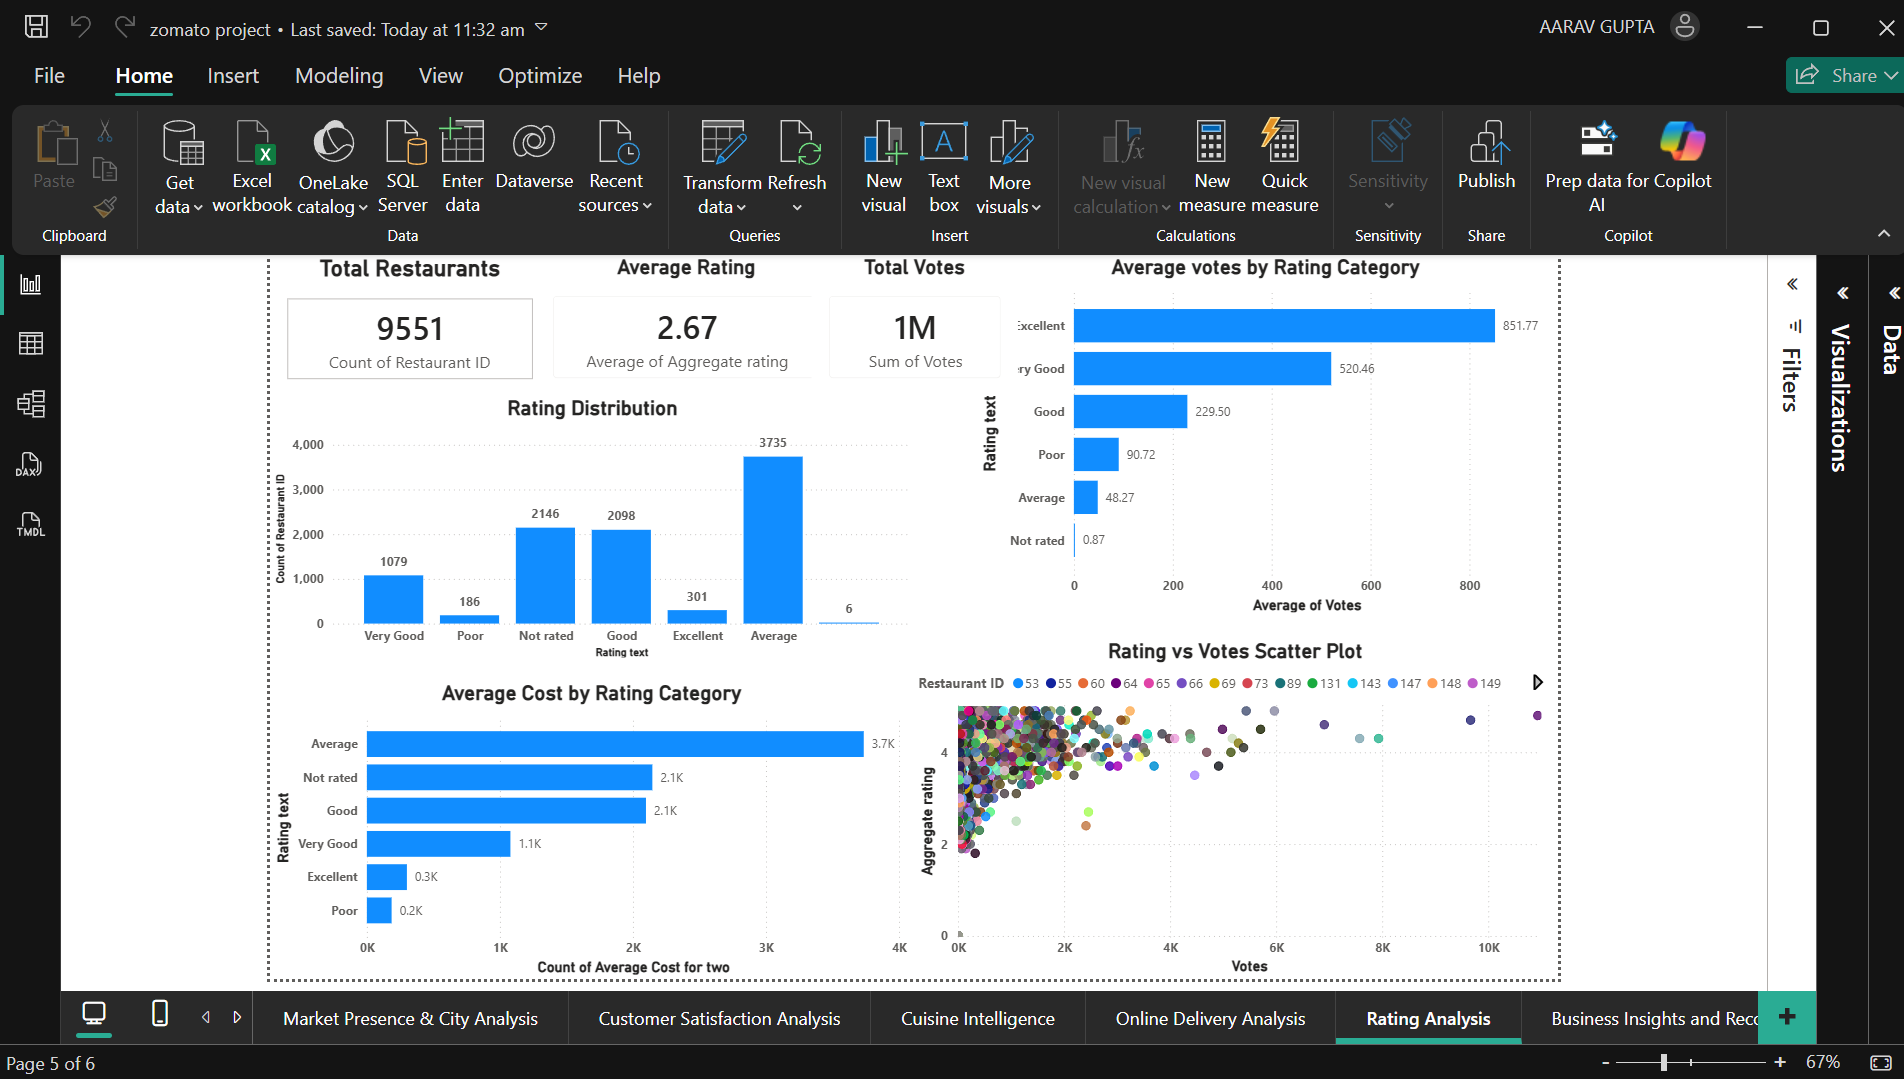

Layout of this report page (visuals, bound fields, positions):
{"tool":"powerbi","page":{"name":"Rating Analysis","canvas":[1280,720],"ordinal":4},"visuals":[{"type":"columnChart","title":"Rating Distribution","fields":{"Category":["zomato.Rating text"],"Y":["CountNonNull(zomato.Restaurant ID)"]},"box":[0,140,641.7,265],"z":0},{"type":"clusteredBarChart","title":"Average votes by Rating Category","fields":{"Category":["zomato.Rating text"],"Y":["Avg(zomato.Votes)"]},"box":[701.7,0,578.3,360],"z":1},{"type":"clusteredBarChart","title":"Average Cost by Rating Category","fields":{"Category":["zomato.Rating text"],"Y":["CountNonNull(zomato.Average Cost for two)"]},"box":[0,423.3,640,296.7],"z":2},{"type":"scatterChart","title":"Rating vs Votes Scatter Plot","fields":{"X":["zomato.Votes"],"Y":["zomato.Aggregate rating"],"Series":["zomato.Restaurant ID"]},"box":[640,382,640,338],"z":3},{"type":"cardVisual","title":"Total Restaurants","fields":{"Data":["CountNonNull(zomato.Restaurant ID)"]},"box":[0,0,278.3,140],"z":4},{"type":"cardVisual","title":"Average Rating","fields":{"Data":["Avg(zomato.Aggregate rating)"]},"box":[263.3,0,300,140],"z":5},{"type":"cardVisual","title":"Total Votes","fields":{"Data":["Sum(zomato.Votes)"]},"box":[538.3,0,205,140],"z":6}]}

Visuals, with their boxes on the page's 1280x720 design canvas (x1, y1, x2, y2). These are canvas units, not pixel positions in the 1904x1079 screenshot, which may show the page scaled, cropped or inside an application window:
"Rating Distribution" columnChart: (0,140,642,405)
"Average votes by Rating Category" clusteredBarChart: (702,0,1280,360)
"Average Cost by Rating Category" clusteredBarChart: (0,423,640,720)
"Rating vs Votes Scatter Plot" scatterChart: (640,382,1280,720)
"Total Restaurants" cardVisual: (0,0,278,140)
"Average Rating" cardVisual: (263,0,563,140)
"Total Votes" cardVisual: (538,0,743,140)
